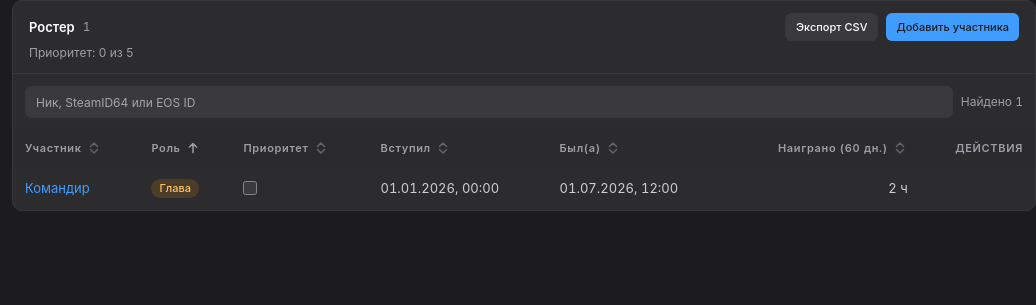
Scenario: RosterPanel (rendered) › reverts the checkbox and shows an error banner when the toggle fails
Click the checkbox named "Приоритет в очереди".
click(250, 188)  # box [243, 181, 257, 195]
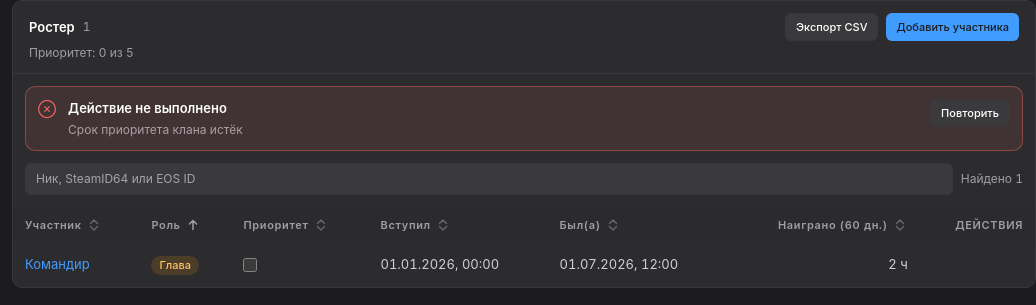
Expected: the checkbox named "Приоритет в очереди" is not checked, [243, 258, 257, 272]
Expected: the text "Срок приоритета клана истёк" is shown, [68, 122, 243, 137]
